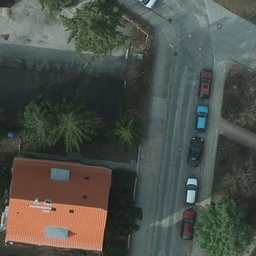car: (194, 67, 213, 99), (185, 136, 204, 168), (180, 210, 196, 241), (184, 176, 199, 209), (194, 102, 208, 134)
